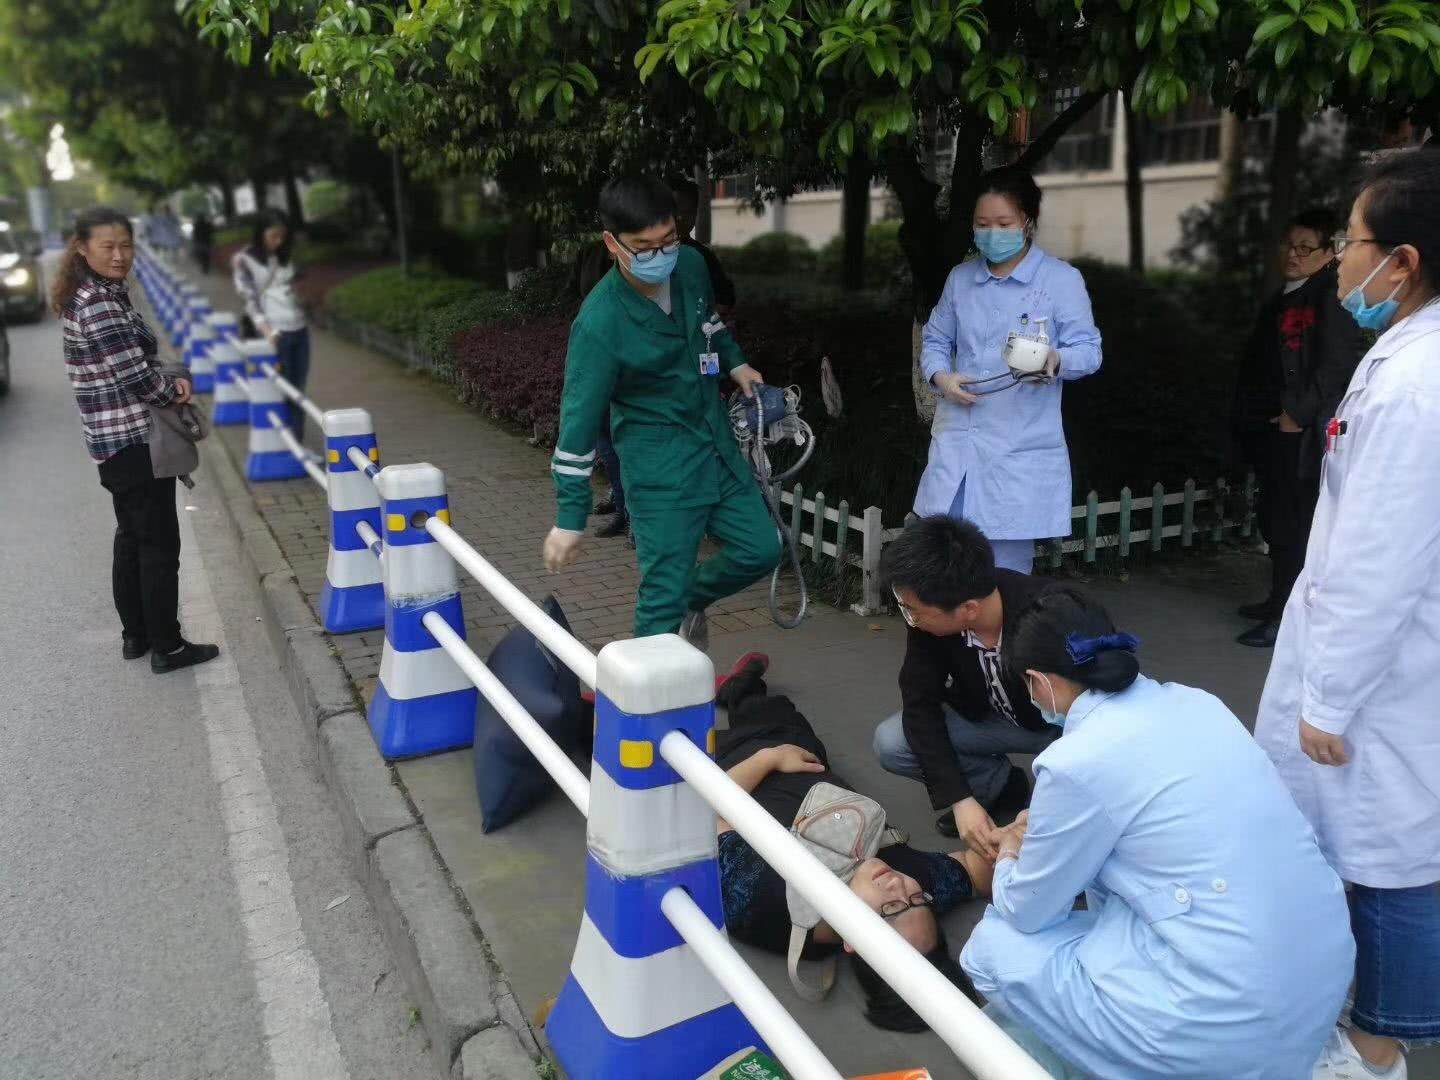falling: (639, 633, 982, 1011)
